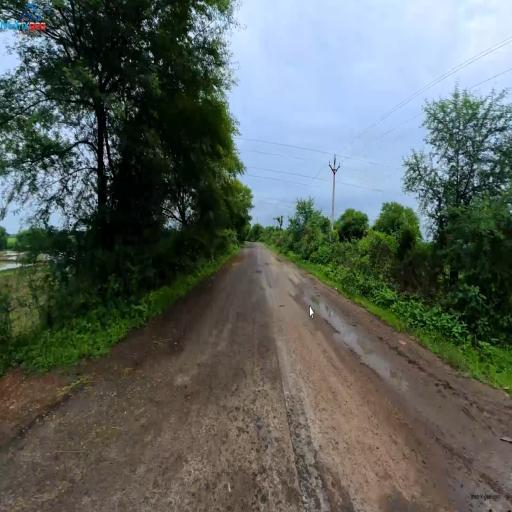ravelling: (220, 352, 367, 478), (142, 395, 197, 471)
